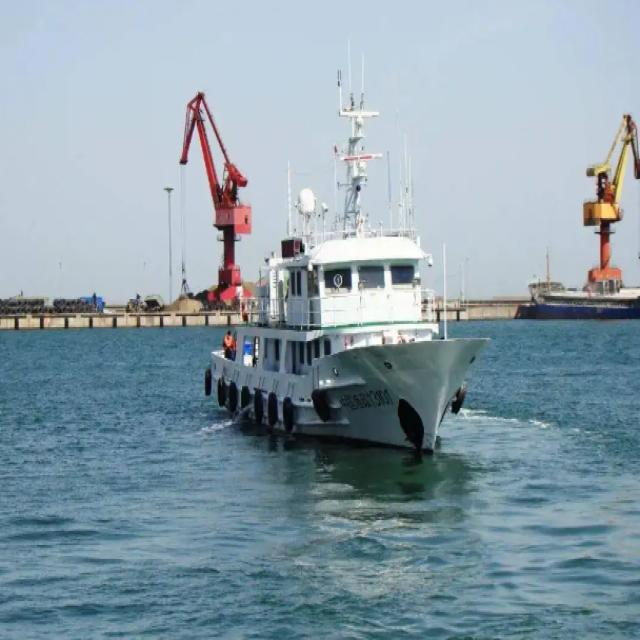houseboat: (188, 122, 482, 444)
